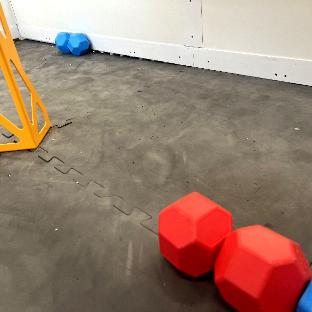V5_BLUE: (55, 31, 89, 55)
V5_RED: (158, 192, 312, 310)
